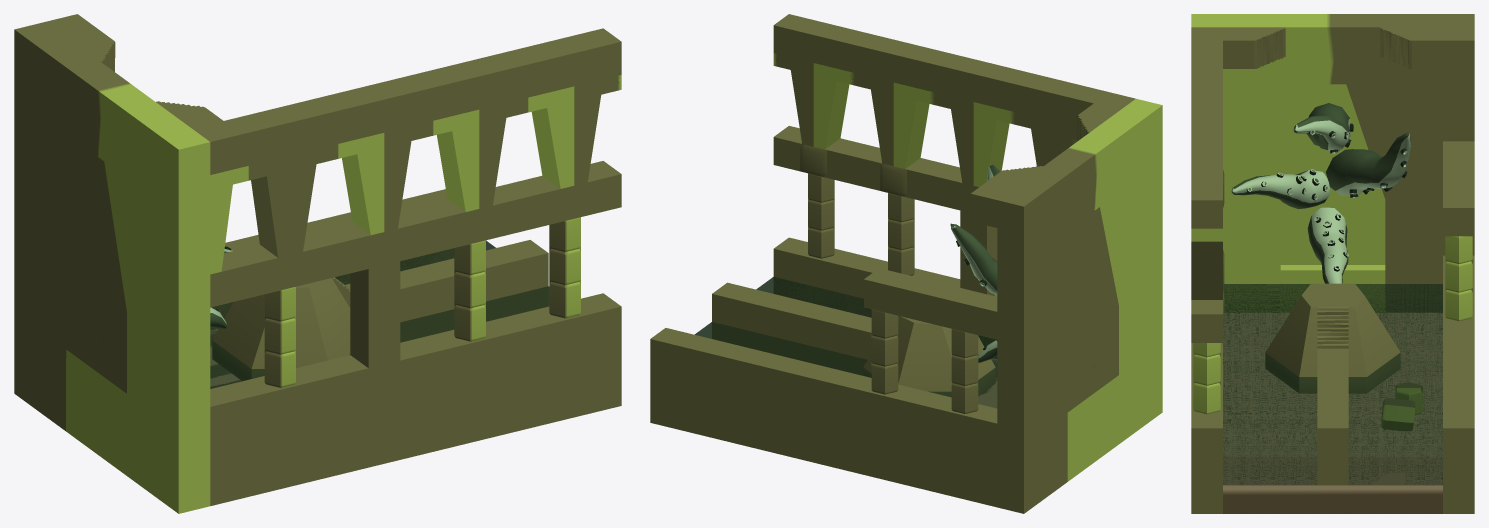
File: temple_entrance_env.fbx
3 renders of one model, left to right at view 1: azimuth 30°, elevation 25°; view 2: azimuth 150°, elevation 25°; view 3: azimuth 270°, elevation 25°, orthographic. The views are drawn at different scales.
Parts seen in each view (by area): view 1: env, black_portal, water; view 2: env, black_portal, water, tentacles1; view 3: env, water, ground, tentacles1, black_portal.
Boxes of the visible parts, box(x1,y1,x2,y2) form: env: box(14, 14, 621, 513); black_portal: box(66, 150, 126, 393); water: box(210, 240, 549, 388); env: box(650, 14, 1162, 513); black_portal: box(1067, 207, 1118, 412); water: box(694, 276, 997, 408); tentacles1: box(950, 164, 1000, 362); env: box(1191, 14, 1474, 513); water: box(1223, 284, 1442, 485); ground: box(1223, 313, 1442, 513); tentacles1: box(1231, 103, 1410, 283); black_portal: box(1280, 84, 1385, 264).
Size of the model in its own units: 14.01 by 11 by 9.
